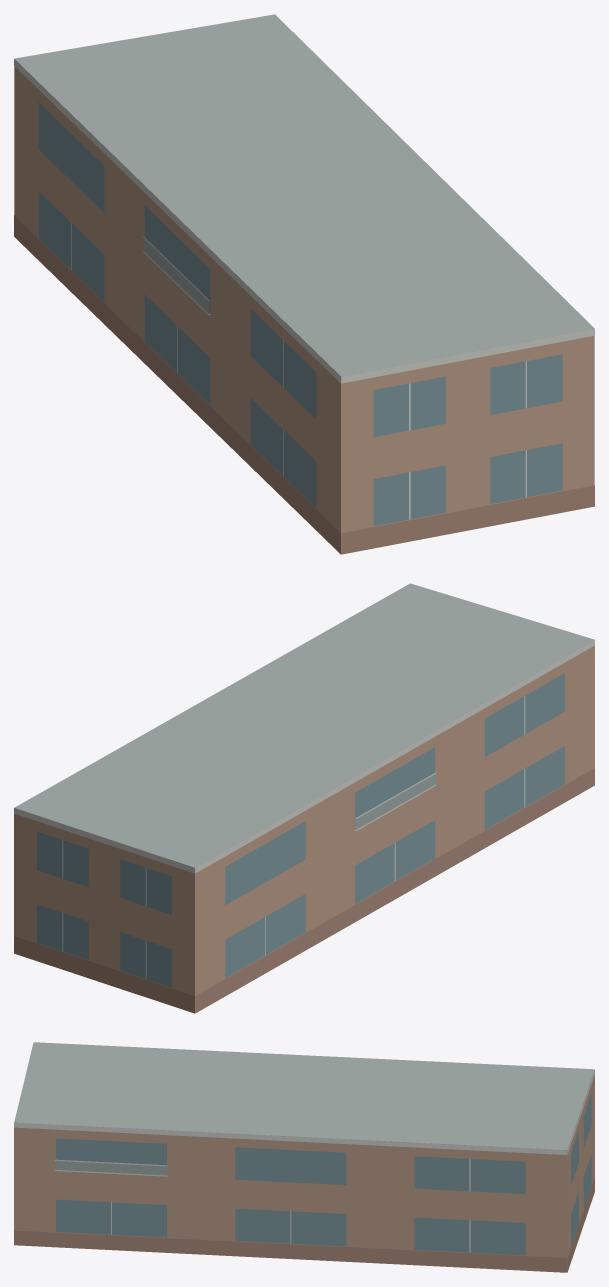
Rendered from survey-upis-32971913.glb.
3 renders of one model, top to bottom at view 1: azimuth 30°, elevation 25°; view 2: azimuth 150°, elevation 25°; view 3: azimuth 270°, elevation 25°, orthographic. The views are drawn at different scales.
Parts seen in each view (by area): view 1: survey-upis-32971913.tmp; view 2: survey-upis-32971913.tmp; view 3: survey-upis-32971913.tmp.
Boxes of the visible parts, left/top/right/bottom form: survey-upis-32971913.tmp: left=14, top=14, right=594, bottom=554; survey-upis-32971913.tmp: left=14, top=583, right=594, bottom=1013; survey-upis-32971913.tmp: left=14, top=1042, right=594, bottom=1272.
Bounding box in the file's own units: 11.54 × 6.1 × 26.21.
